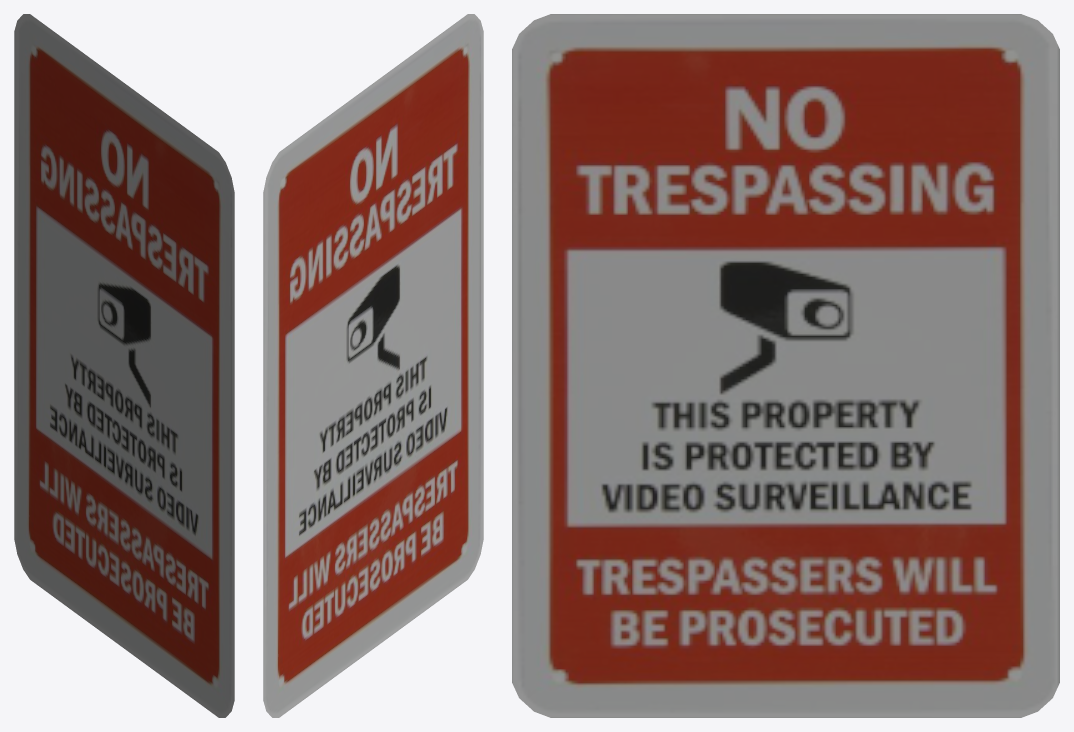
The model's file is SM_SignB_12.FBX.
3 renders of one model, left to right at view 1: azimuth 30°, elevation 25°; view 2: azimuth 150°, elevation 25°; view 3: azimuth 270°, elevation 25°, orthographic. The views are drawn at different scales.
Parts seen in each view (by area): view 1: SM_SignB_12; view 2: SM_SignB_12; view 3: SM_SignB_12.
Part boxes in pixels (x1,y1,x2,y2): SM_SignB_12: (14,14,234,717); SM_SignB_12: (263,14,483,717); SM_SignB_12: (512,14,1059,717).
Size of the model in its own units: 2.39e-06 by 20.03 by 28.41.
